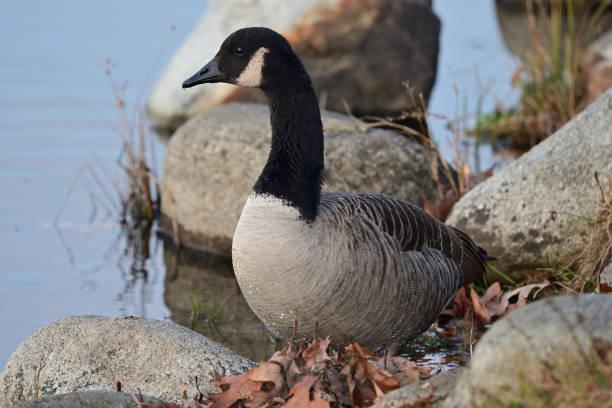Canadian-Goose: (177, 25, 491, 345)
